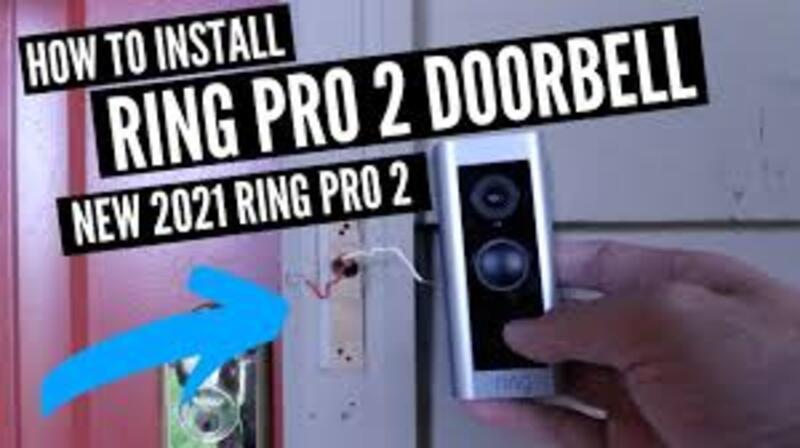doorbell: (428, 133, 556, 415)
